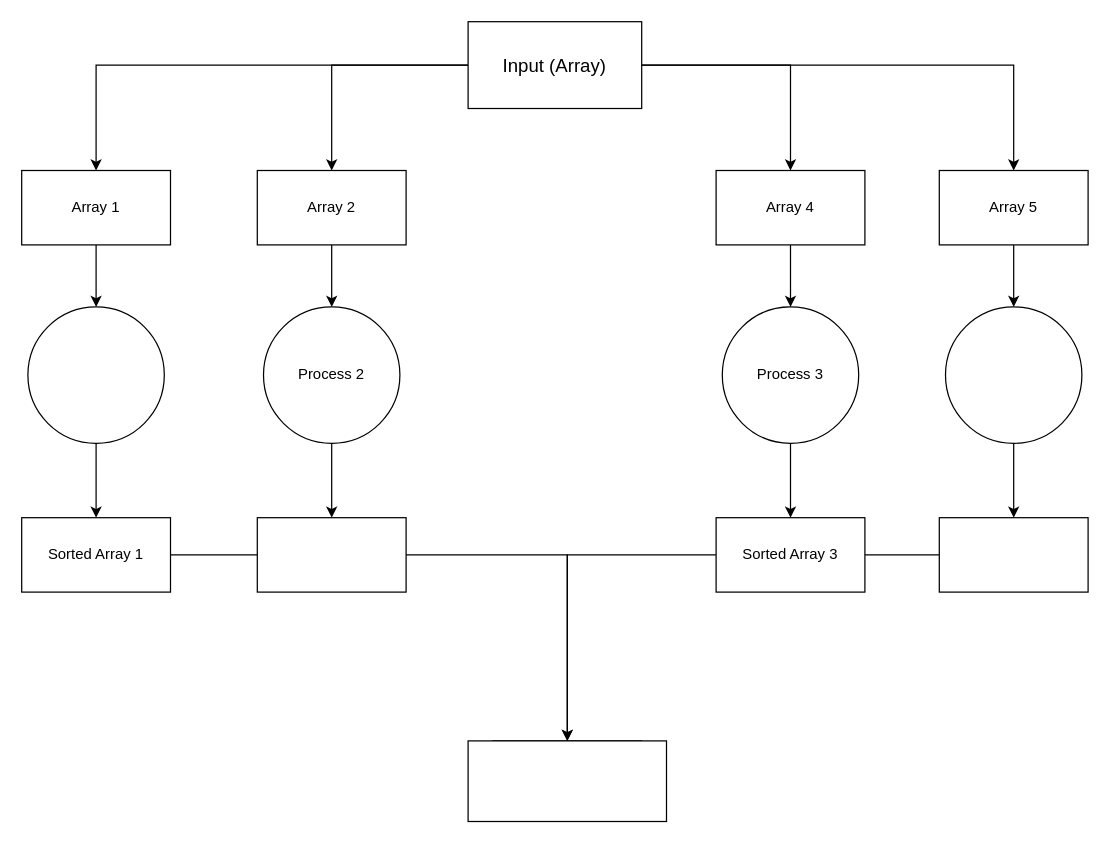
Image size: 1110x843. Some labels were removed from this diagram. The box of each missing label's shape, as (x1, y1, x2, y2) in pixels:
Process 1: (27, 306, 164, 443)
Process 4: (944, 306, 1082, 443)
Sorted Array: (467, 740, 666, 822)
Sorted Array 2: (256, 516, 406, 592)
Sorted Array 4: (938, 516, 1088, 592)
